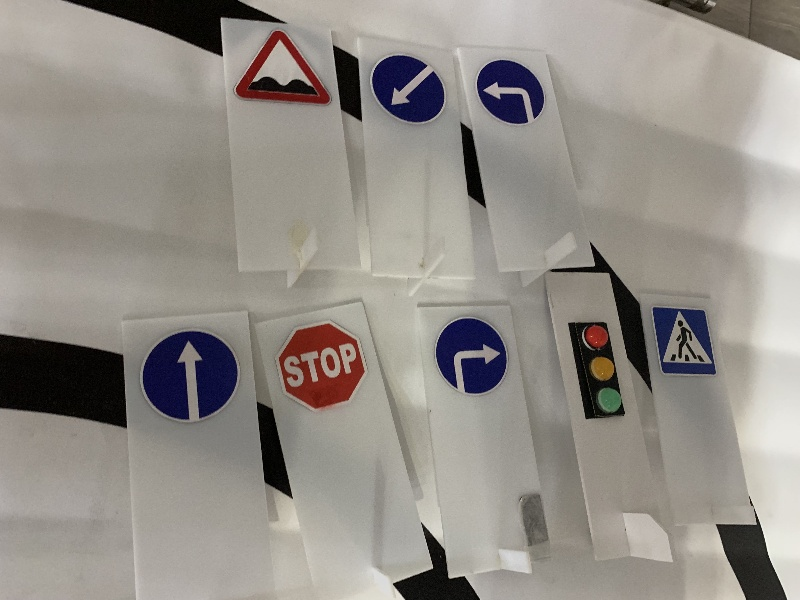Left: (472, 56, 551, 127)
Nerov: (236, 30, 331, 106)
Right: (435, 311, 508, 397)
Stop: (275, 321, 367, 408)
forw: (139, 328, 241, 423)
pesh: (650, 303, 717, 377)
prep: (368, 50, 449, 123)
